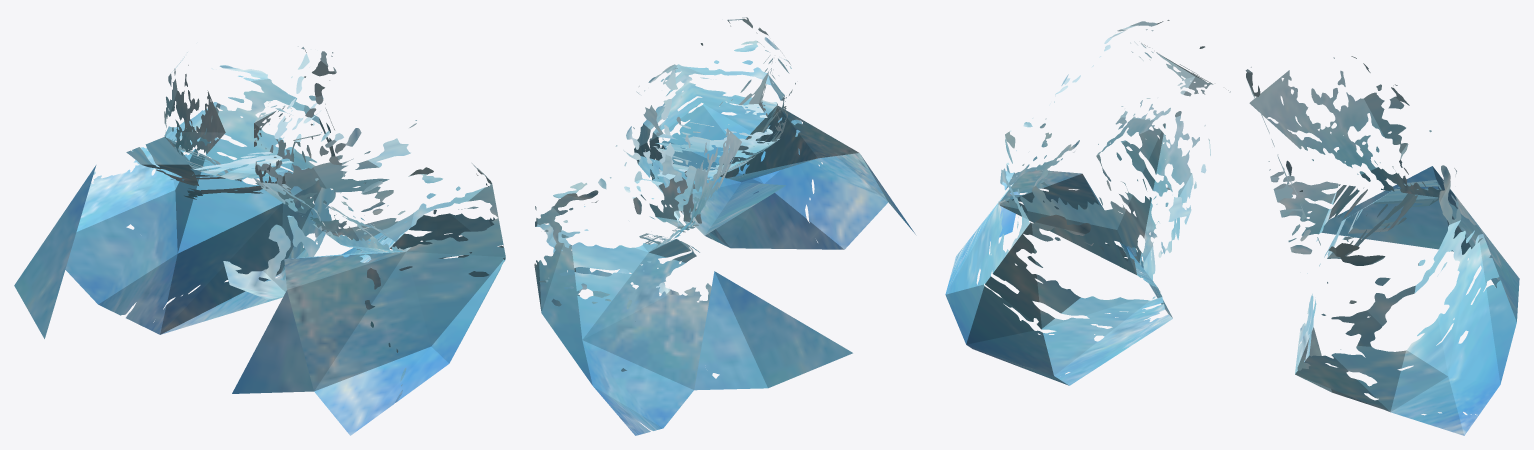
The model's file is wolverine_arms_iced.glb.
3 views of the same model, side by side, from view 1: azimuth 30°, elevation 25°; view 2: azimuth 150°, elevation 25°; view 3: azimuth 270°, elevation 25° (orthographic). The views are drawn at different scales.
Parts seen in each view (by area): view 1: wolverine_arms_iced_0; view 2: wolverine_arms_iced_0; view 3: wolverine_arms_iced_0.
Part boxes in pixels (x1=…): wolverine_arms_iced_0: x1=14, y1=46, x2=505, y2=435; wolverine_arms_iced_0: x1=534, y1=17, x2=915, y2=435; wolverine_arms_iced_0: x1=945, y1=20, x2=1519, y2=435.
Bounding box in the file's own units: 21.36 × 22.44 × 27.15.
Materials: 1 (1 with a texture image).
